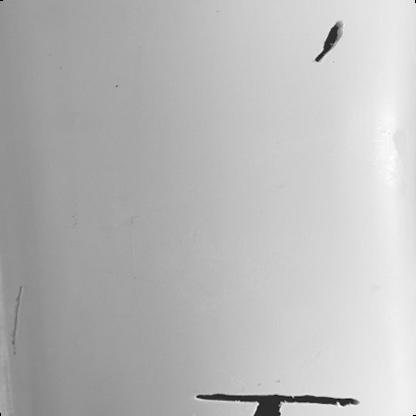fengxi: (197, 393, 358, 406)
kongdong: (313, 19, 346, 64), (254, 401, 285, 416)
